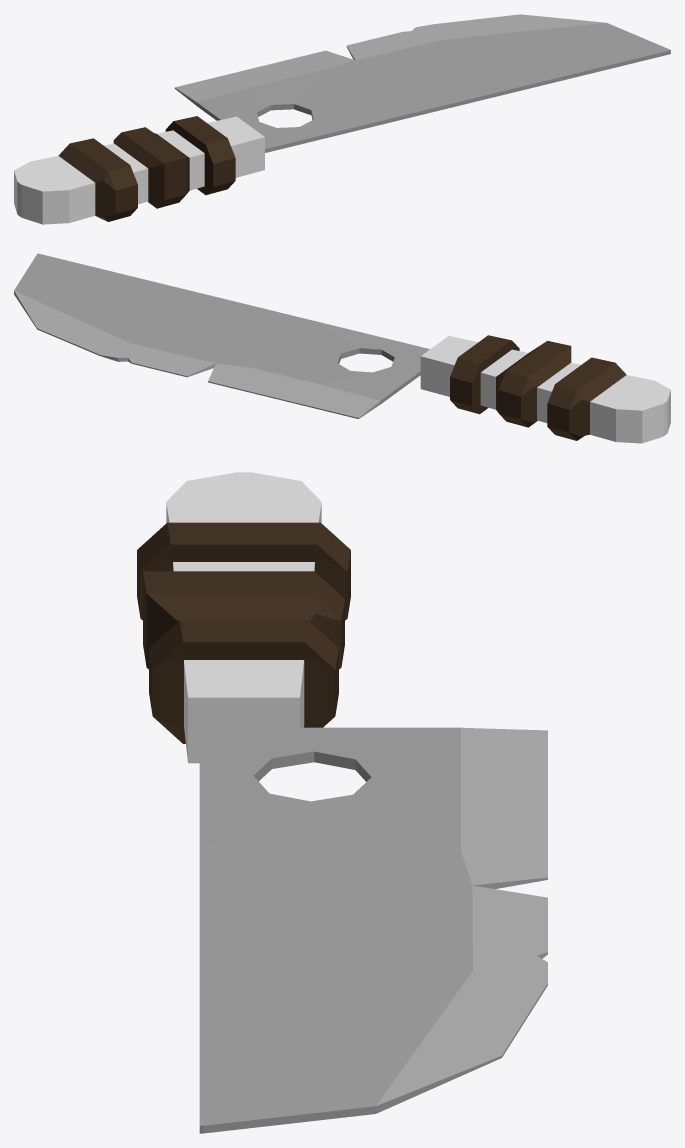
File: Тест (1).fbx
3 views of the same model, one above another, from view 1: azimuth 30°, elevation 25°; view 2: azimuth 150°, elevation 25°; view 3: azimuth 270°, elevation 25° (orthographic). The views are drawn at different scales.
Visible parts, largest first — view 1: Куб, Плоскость; view 2: Куб, Плоскость; view 3: Куб, Плоскость.
Part boxes in pixels (left/top/right/bottom): Куб: left=174, top=14, right=670, bottom=152; Плоскость: left=14, top=116, right=264, bottom=224; Куб: left=14, top=253, right=429, bottom=418; Плоскость: left=420, top=335, right=670, bottom=443; Куб: left=199, top=727, right=547, bottom=1133; Плоскость: left=137, top=472, right=350, bottom=763.
Bounding box in the file's own units: 46.39 × 3.53 × 12.94.
